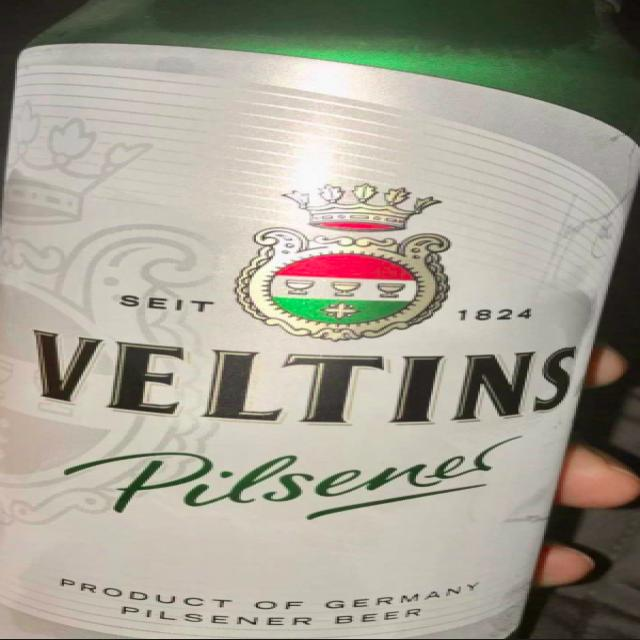Veltins Pilsener: (2, 1, 640, 640)
